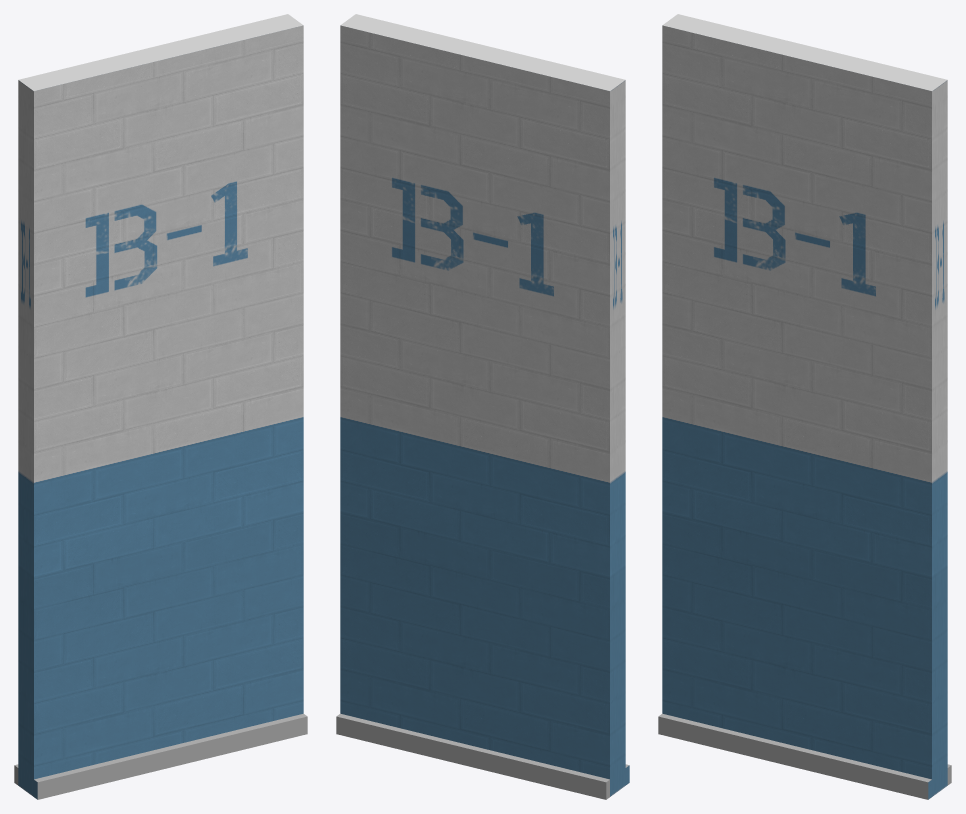
File: Wall_BlockNumber.fbx
The picture shows the model from 3 angles, left to right: view 1: azimuth 30°, elevation 25°; view 2: azimuth 150°, elevation 25°; view 3: azimuth 330°, elevation 25°; orthographic projection.
Visible parts, largest first — view 1: Wall027; view 2: Wall027; view 3: Wall027.
Part boxes in pixels (left/top/right/bottom): Wall027: left=14, top=14, right=307, bottom=799; Wall027: left=336, top=14, right=629, bottom=799; Wall027: left=658, top=14, right=951, bottom=799.
Size of the model in its own units: 1 by 2.5 by 0.15.
Materials: 4 (2 with a texture image).
